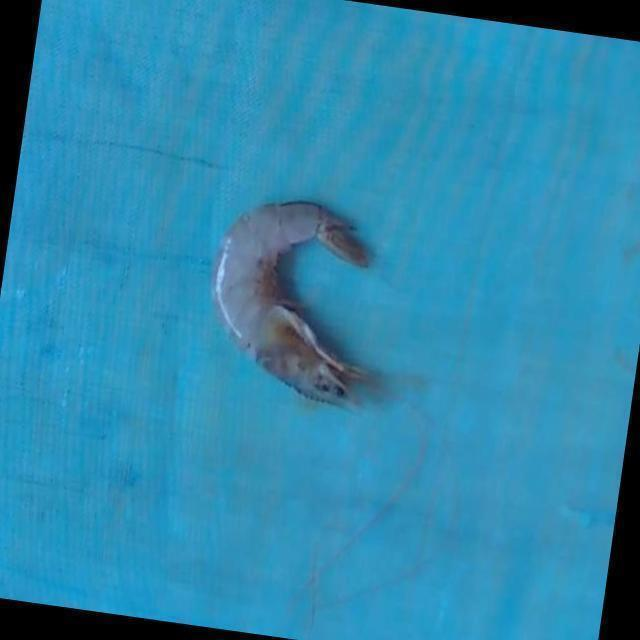shrimp: (213, 202, 367, 404)
